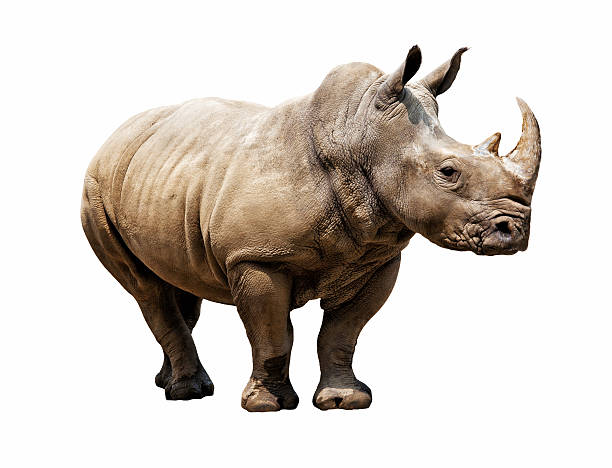rhino: (336, 27, 574, 303)
